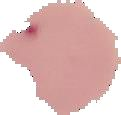parasitized: (19, 19, 42, 44)
